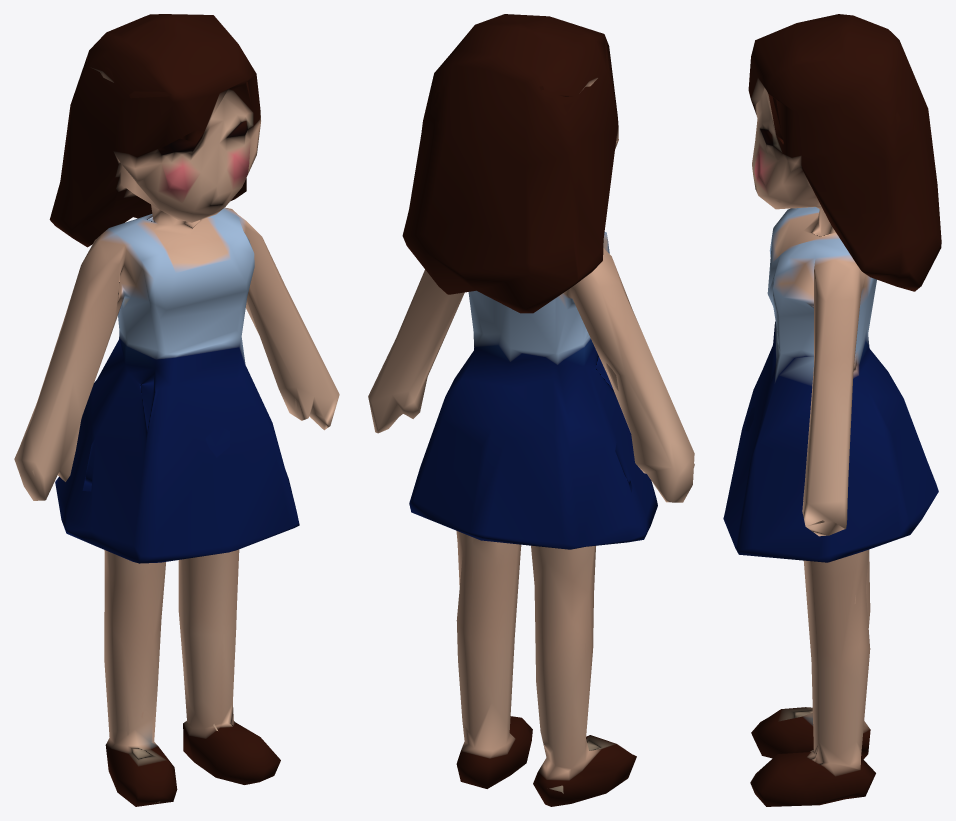
File: gen3d-sister-lod0.glb
3 renders of one model, left to right at view 1: azimuth 30°, elevation 25°; view 2: azimuth 150°, elevation 25°; view 3: azimuth 270°, elevation 25°, orthographic.
Parts seen in each view (by area): view 1: part_0; view 2: part_0; view 3: part_0.
Boxes of the visible parts, x1=… form: part_0: x1=14, y1=14, x2=339, y2=806; part_0: x1=368, y1=14, x2=694, y2=806; part_0: x1=723, y1=14, x2=941, y2=806.
Size of the model in its own units: 0.4338 by 0.9983 by 0.2631.
